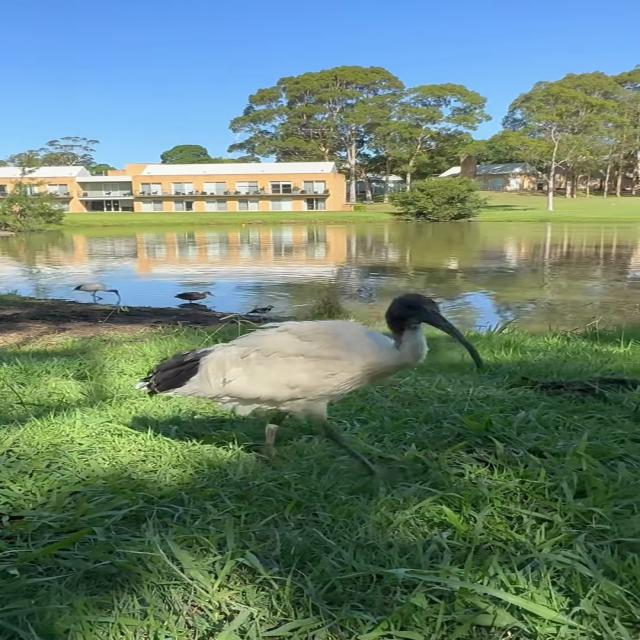Birds-Ibis: (138, 289, 490, 484), (73, 280, 126, 306)
Birds-Other: (174, 288, 216, 307)
